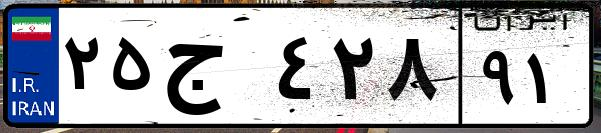1: (525, 38, 570, 115)
2: (330, 28, 385, 110), (57, 26, 110, 100)
4: (270, 28, 330, 110)
5: (110, 28, 158, 98)
8: (385, 28, 445, 110)
9: (475, 38, 525, 113)
ج: (158, 20, 270, 120)
